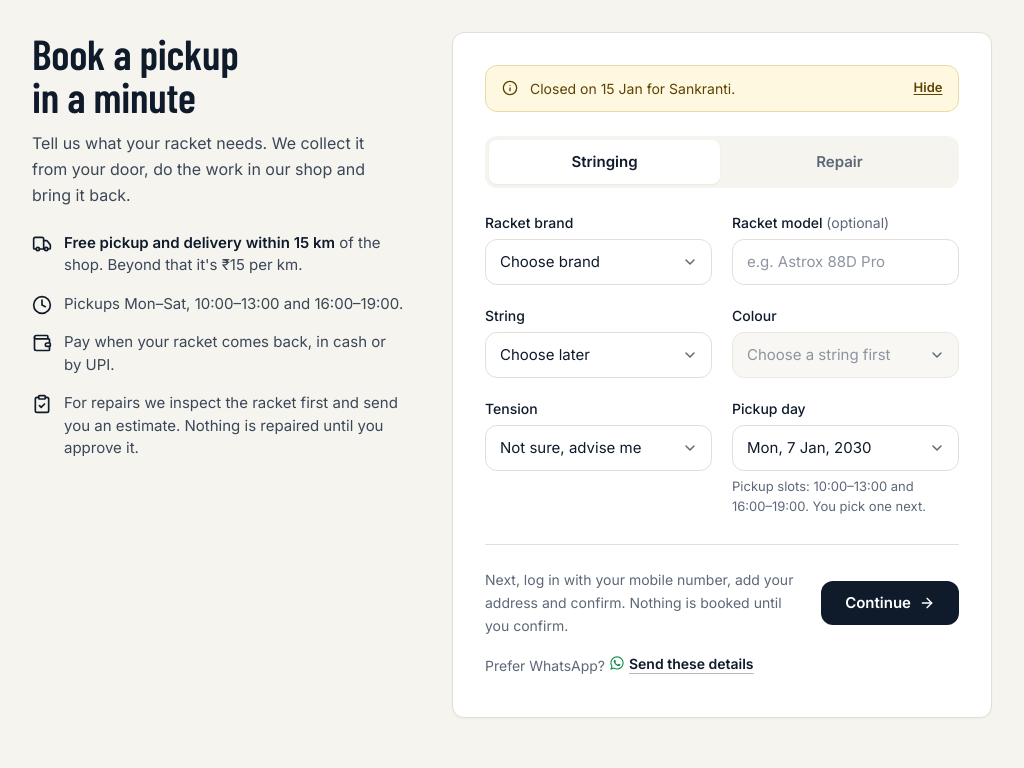
Test: BookingSection › shows the shop notice, which can be hidden
expect the message shows "Closed on 15 Jan for Sankranti.": met, box [530,80,735,97]
Click the button "Hide" at (928, 88), box [906,70,950,106]
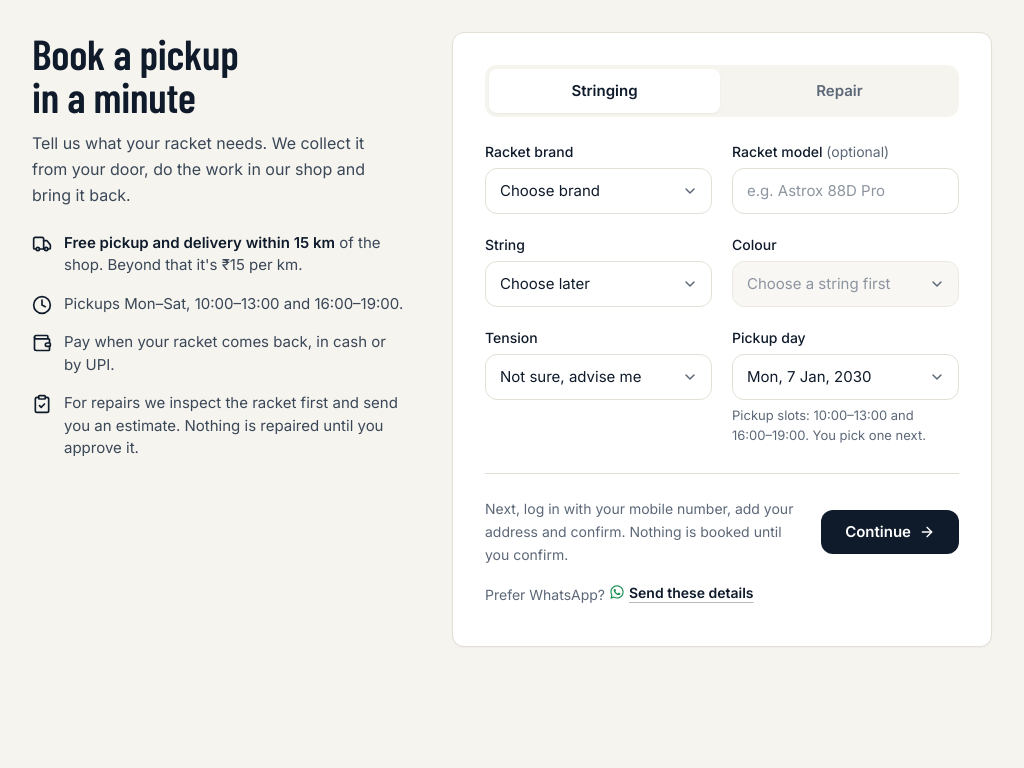
expect the text "Closed on 15 Jan for Sankranti." is gone: met
